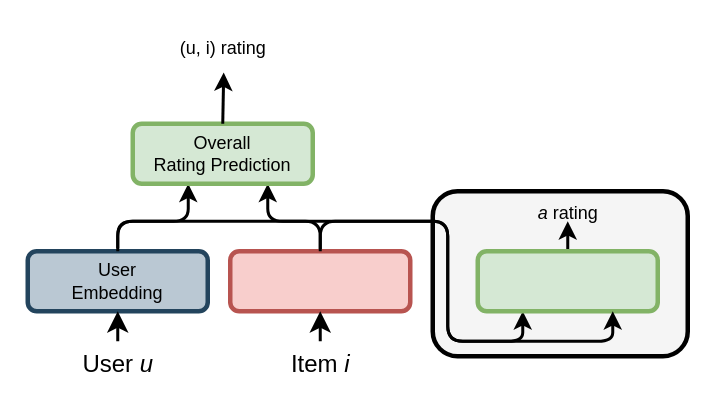
Image size: 716x411. Some labels were removed from this diagram. Here are the shapes that lost their labels. From the top down, the box of each, then its label:
(227, 248, 412, 313): Item Embedding
(475, 248, 659, 313): Aspect a Rating Prediction
